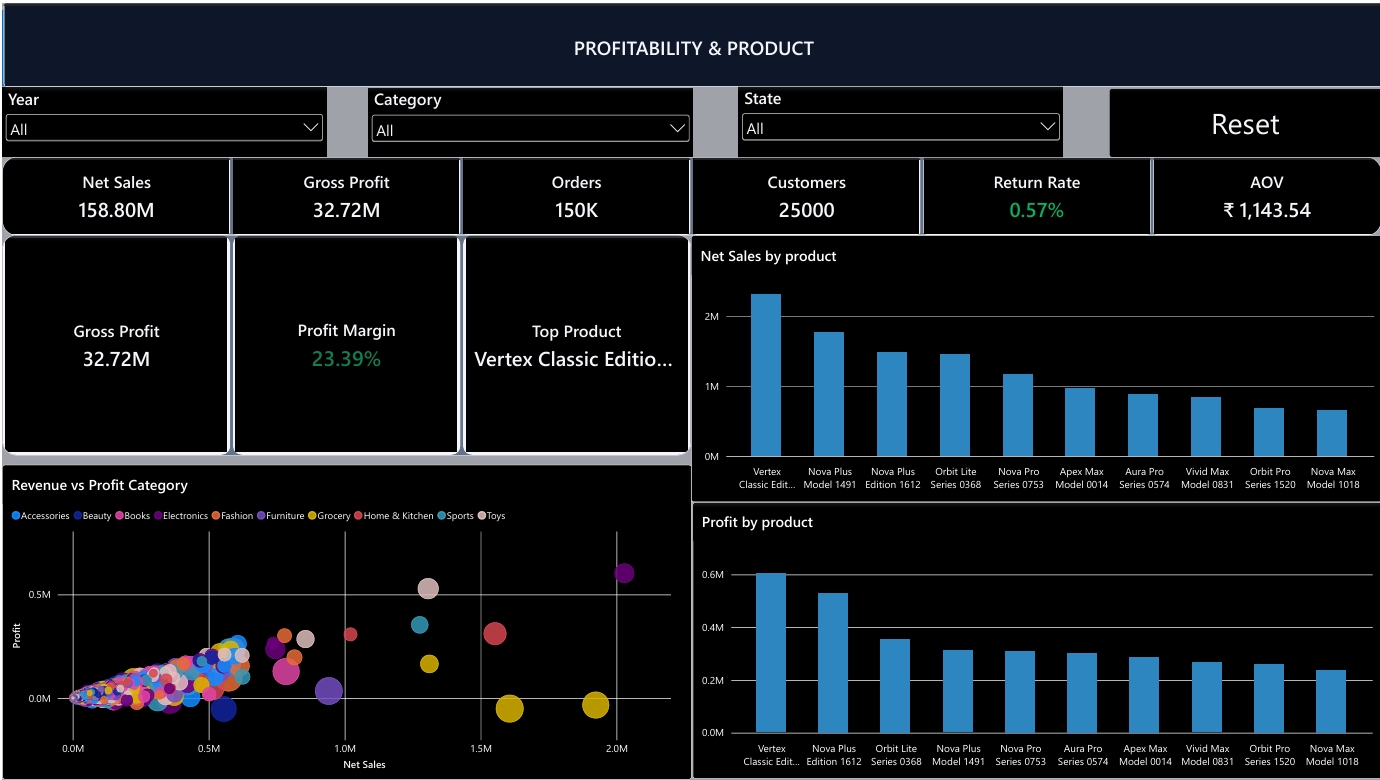

The dashboard page shown, as its layout file describes it:
{"tool":"powerbi","page":{"name":"Page 4","canvas":[1920,1080],"ordinal":3},"visuals":[{"type":"cardVisual","fields":{"Data":["Measure.Profit","Measure.ProfitMArgin","Measure.TopProduct"]},"box":[0,322.1,958.9,307.4],"z":0},{"type":"columnChart","title":"Profit by product","fields":{"Category":["products.product_name"],"Y":["Measure.Profit"]},"box":[960.4,693.8,958.3,385.4],"z":1000},{"type":"shape","box":[0,10.3,1919.6,104.9],"z":2000},{"type":"slicer","fields":{"Values":["DimDate.Year"]},"box":[0,116.9,450.8,96],"z":3000},{"type":"slicer","fields":{"Values":["categories.category_name"]},"box":[509.4,117.6,451.6,95.2],"z":4000},{"type":"slicer","fields":{"Values":["orders.shipping_state"]},"box":[1024.4,115.7,451.6,98.9],"z":5000},{"type":"actionButton","box":[1539.6,119.4,378.7,94.7],"z":6000},{"type":"cardVisual","fields":{"Data":["Measure.Netsales Af Refund","Measure.Profit","Measure.Total Orders","Measure.Total Customers","Measure.ReturnRate","DimDate.AOV"]},"box":[0,214.1,1918.4,109.1],"z":7000},{"type":"scatterChart","title":"Revenue vs Profit Category","fields":{"Category":["products.product_name"],"Series":["categories.category_name"],"Size":["Measure.Total Units"],"X":["Measure.Net sales bf tax"],"Y":["Measure.Profit"]},"box":[0,642,958.9,438],"z":8000},{"type":"columnChart","title":"Net Sales by product","fields":{"Category":["products.product_name"],"Y":["Measure.Netsales Af Refund"]},"box":[958.3,322.9,962.5,370.8],"z":9000},{"type":"cardVisual","fields":{"Data":["Measure.PROFITABILITY PRODUCT TITLE"]},"box":[1.8,0,1918.2,115.7],"z":10000}]}

Visuals, with their boxes in screenshot pixels (x1, y1, x2, y2), scaled from the page's 1920x1080 canvas onto the 1380x780 screenshot:
cardVisual - Measure.Profit x Measure.ProfitMArgin: (left=0, top=233, right=689, bottom=455)
"Profit by product" columnChart: (left=690, top=501, right=1379, bottom=779)
shape: (left=0, top=7, right=1379, bottom=83)
slicer - DimDate.Year: (left=0, top=84, right=324, bottom=154)
slicer - categories.category_name: (left=366, top=85, right=691, bottom=154)
slicer - orders.shipping_state: (left=736, top=84, right=1061, bottom=155)
actionButton: (left=1107, top=86, right=1379, bottom=155)
cardVisual - Measure.Netsales Af Refund x Measure.Profit: (left=0, top=155, right=1379, bottom=233)
"Revenue vs Profit Category" scatterChart: (left=0, top=464, right=689, bottom=779)
"Net Sales by product" columnChart: (left=689, top=233, right=1379, bottom=501)
cardVisual - Measure.PROFITABILITY PRODUCT TITLE: (left=1, top=0, right=1379, bottom=84)
